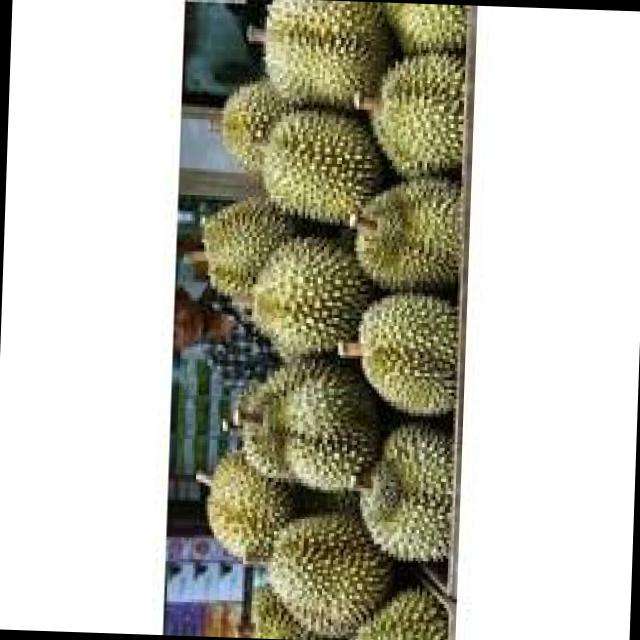fruit: (202, 205, 388, 368), (219, 341, 402, 504), (208, 86, 403, 237), (241, 493, 414, 640), (244, 0, 408, 117)
